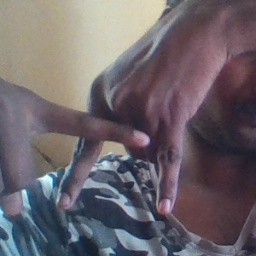H: (44, 81, 197, 223)
